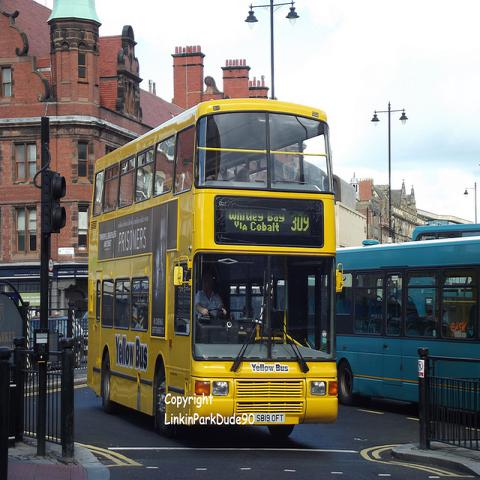bus: (87, 99, 338, 442), (338, 234, 480, 416), (411, 224, 479, 240)
car: (30, 317, 85, 366)
